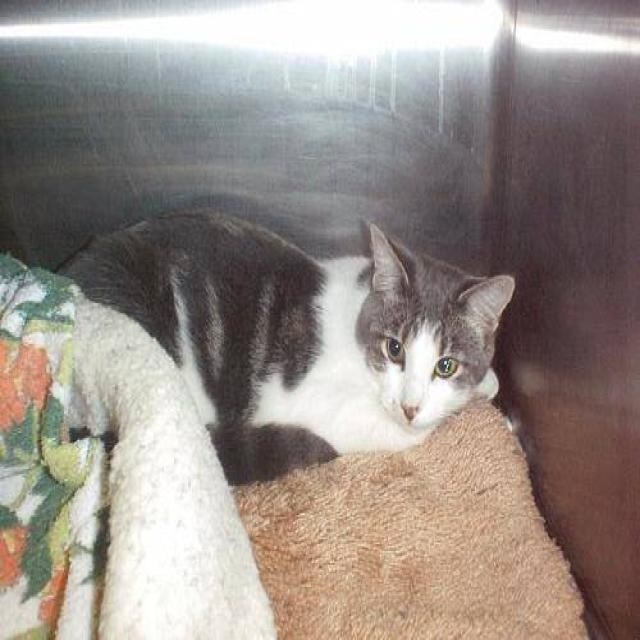cat: (56, 207, 518, 488)
